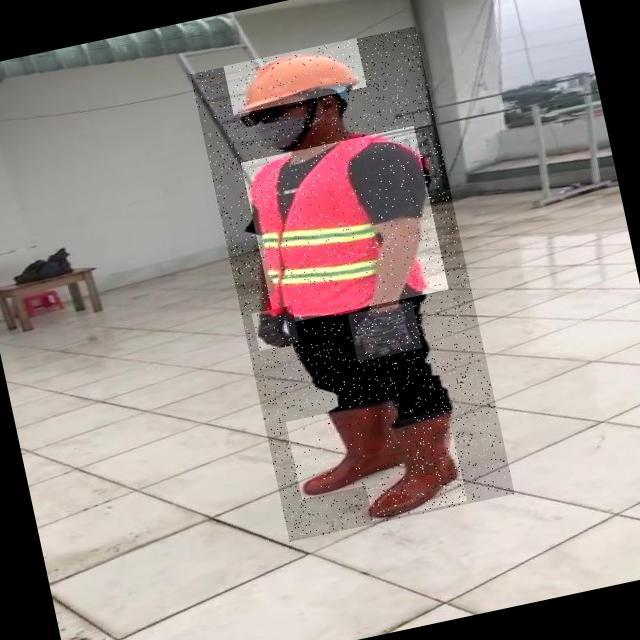Gloves: (348, 300, 423, 361), (251, 305, 299, 351)
Helmet: (223, 38, 366, 115)
Human: (190, 26, 514, 541)
Safety Boot: (286, 398, 412, 499), (354, 410, 467, 521)
Safety Vest: (241, 125, 450, 325)
